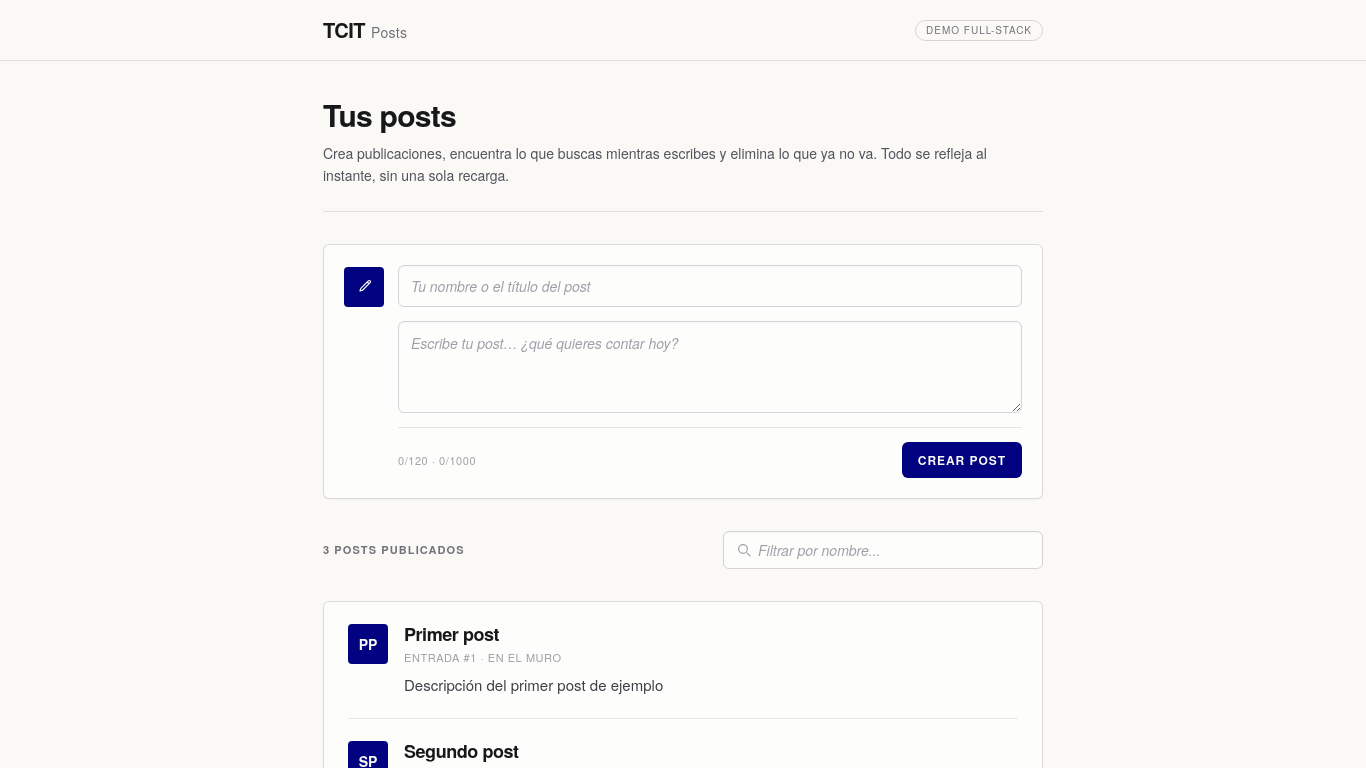
it: PostsView (integración) › muestra 'Sin coincidencias' cuando el filtro no devuelve resultados
Expected: the heading "Primer post" is shown, x1=404 y1=621 x2=499 y2=647
Step 1. Type "zzzzz" into the search field with placeholder "Filtrar por nombre..." → {"x": 842, "y": 550}, box x1=758 y1=536 x2=927 y2=564
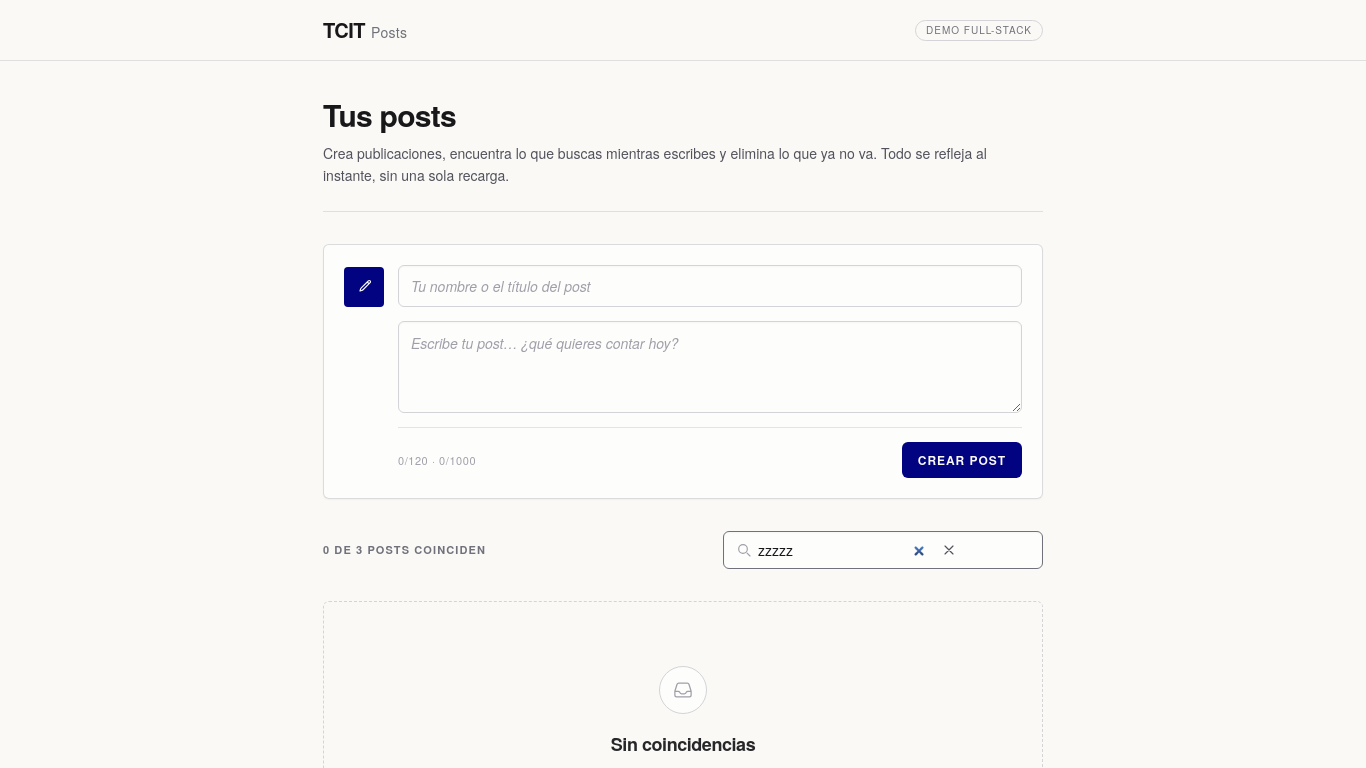
Expected: the text "Sin coincidencias" is shown, x1=611 y1=730 x2=755 y2=758
